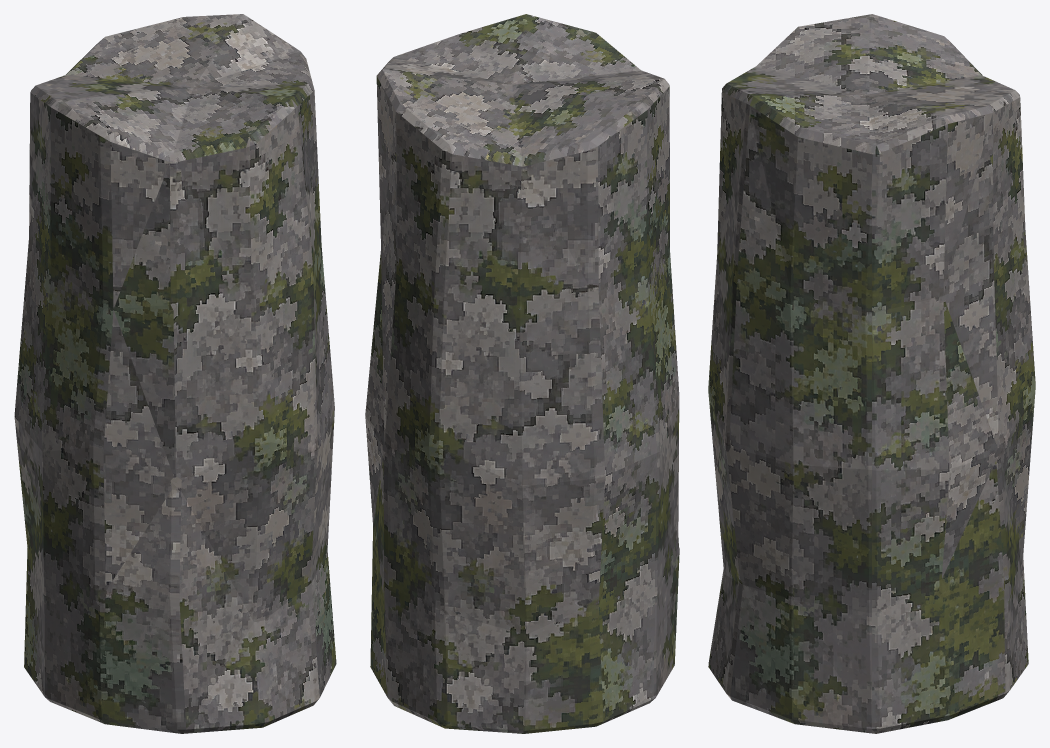
Rendered from weathered_pillar_v2.glb.
The picture shows the model from 3 angles, left to right: view 1: azimuth 30°, elevation 25°; view 2: azimuth 150°, elevation 25°; view 3: azimuth 270°, elevation 25°; orthographic projection.
Parts seen in each view (by area): view 1: FracturedShaft; view 2: FracturedShaft; view 3: FracturedShaft.
Part boxes in pixels (bbox=[...]): FracturedShaft: bbox=[14, 14, 336, 733]; FracturedShaft: bbox=[365, 14, 679, 733]; FracturedShaft: bbox=[708, 14, 1035, 733].
Size of the model in its own units: 0.9299 by 1.94 by 0.9553.
1 material, 1 textured.
